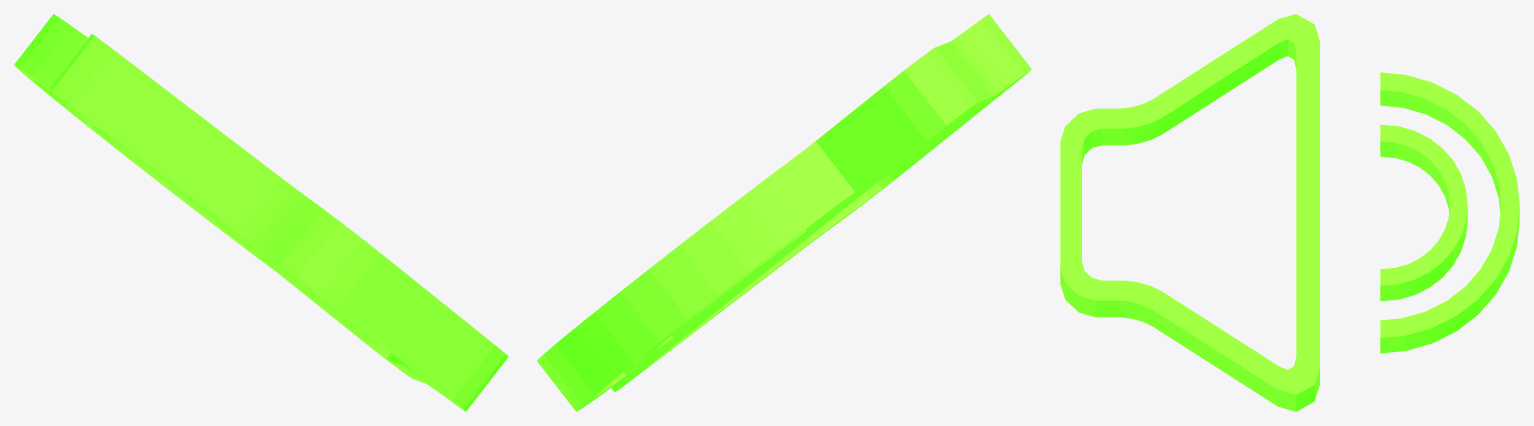
The model's file is mute_off.glb.
3 views of the same model, side by side, from view 1: azimuth 30°, elevation 25°; view 2: azimuth 150°, elevation 25°; view 3: azimuth 270°, elevation 25° (orthographic). The views are drawn at different scales.
Parts seen in each view (by area): view 1: mute_off; view 2: mute_off; view 3: mute_off.
Part boxes in pixels (box(x1,y1,x2,y2)): mute_off: box(14, 14, 508, 411); mute_off: box(537, 14, 1031, 411); mute_off: box(1060, 14, 1519, 411).
Size of the model in its own units: 0.0121 by 0.0121 by 0.0172.
